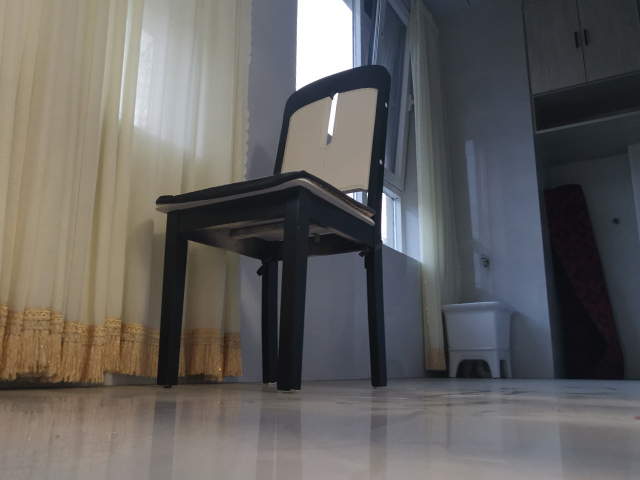curtain: (1, 1, 254, 390), (404, 1, 466, 377)
stool: (154, 63, 392, 392)
